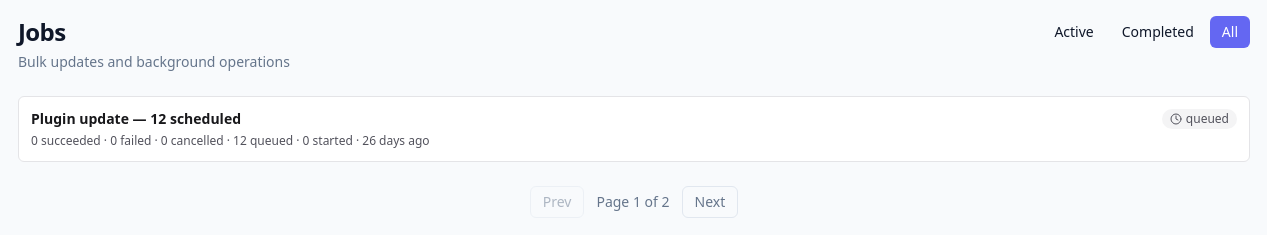
Test: Jobs › paginates via Prev/Next when total exceeds per_page
Expected: the text "Page 1 of 2" is shown, [596,192,670,212]
Expected: the button "Prev" is disabled, [530,186,584,218]
Click the button "Next". click: (710, 202)
box: [682,186,738,218]
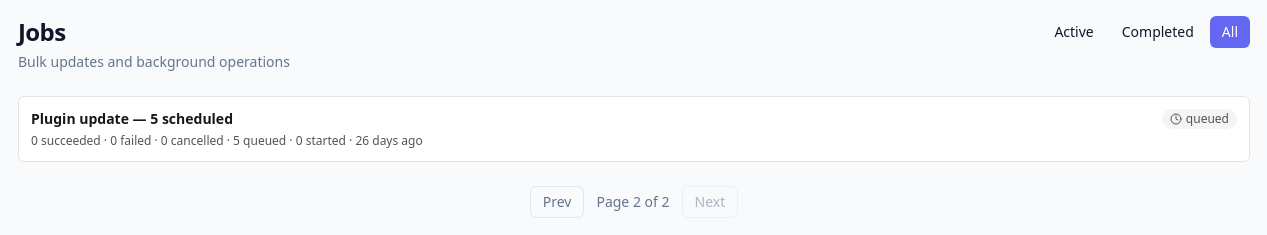
Now the text "Page 2 of 2" is shown, box [596,192,670,212]
Now the text "Plugin update — 5 scheduled" is shown, box [31,109,233,129]
Now the button "Next" is disabled, box [682,186,738,218]
